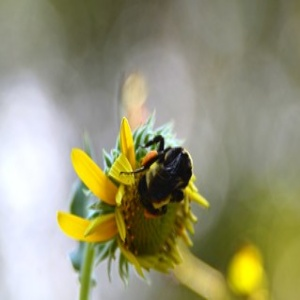bee: (125, 135, 197, 220)
